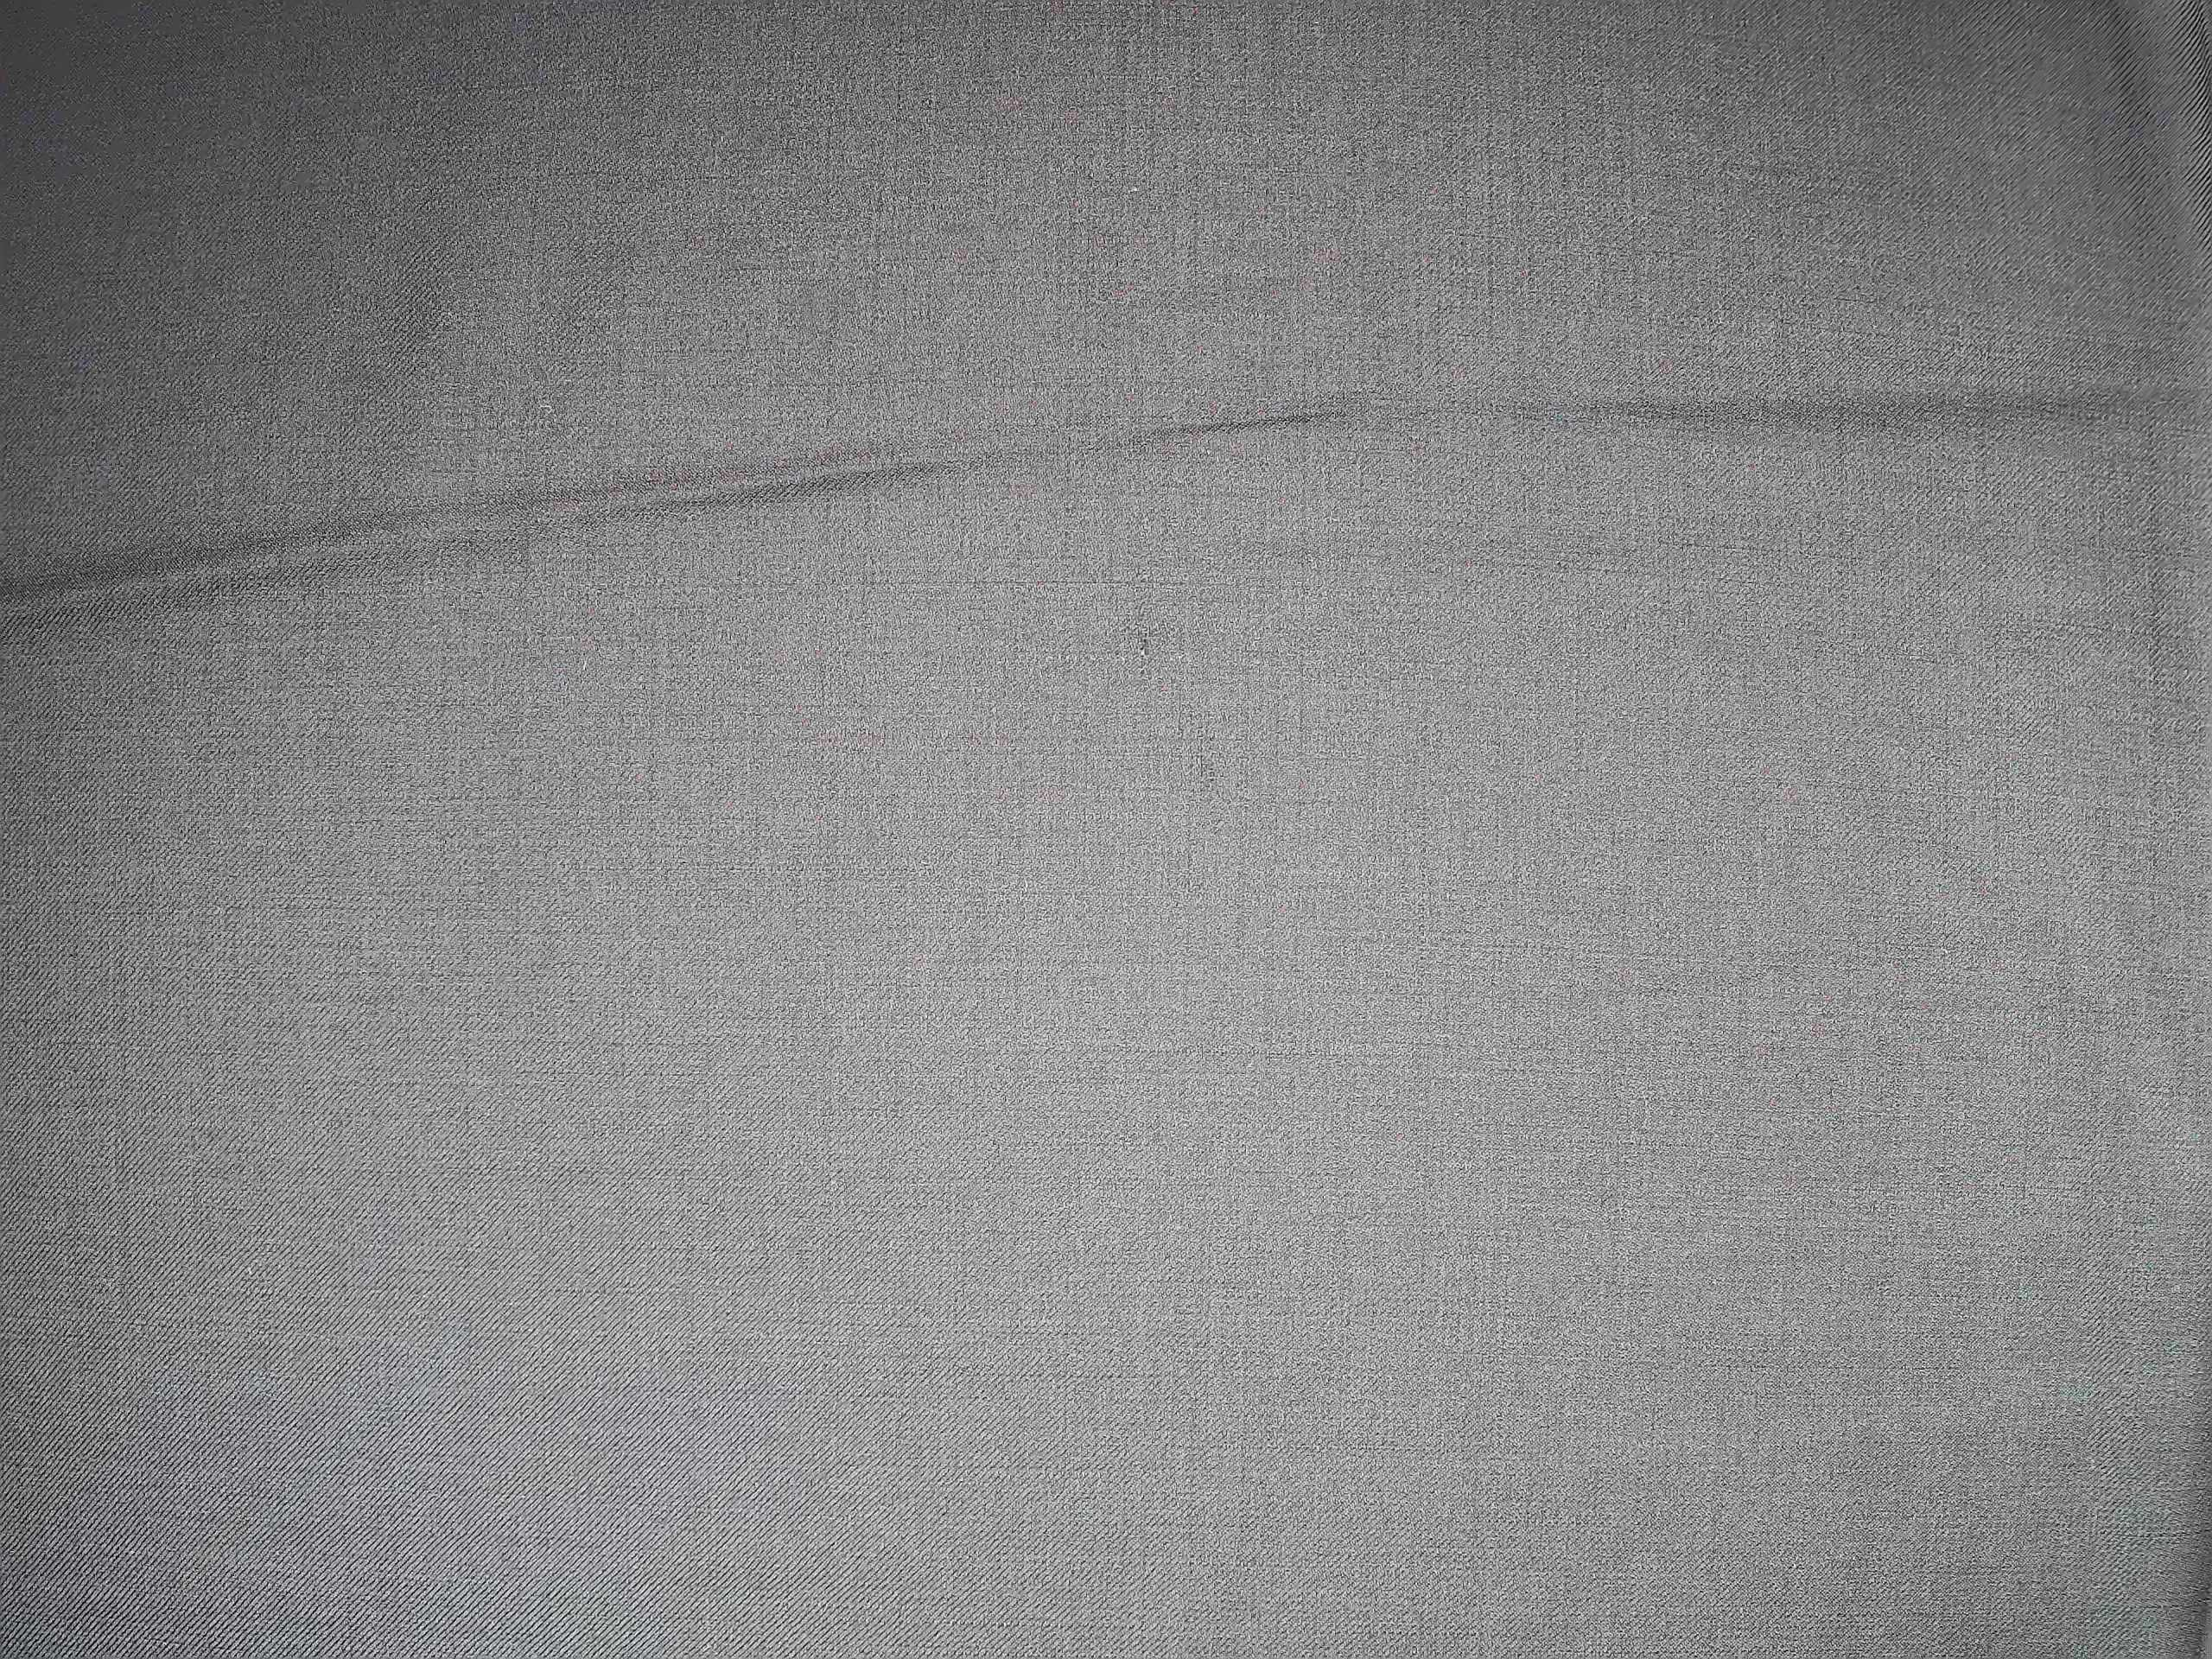rubbing-hole: (1111, 617, 1176, 697), (1176, 735, 1226, 795)
